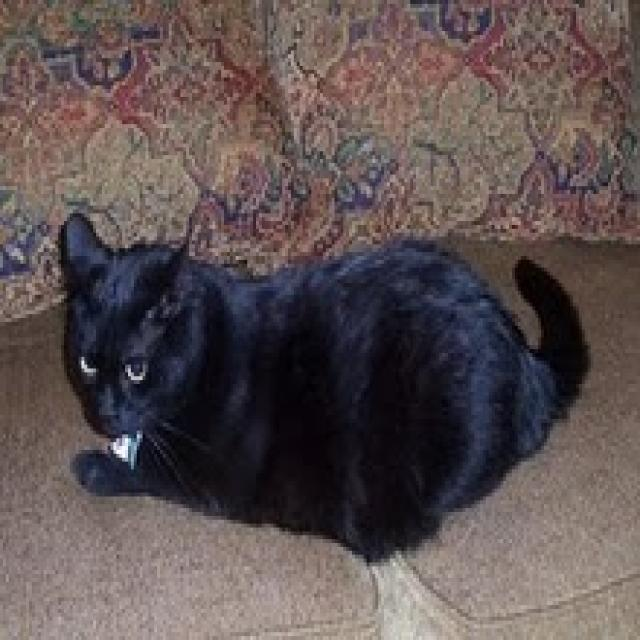Bombay: (58, 210, 195, 431)
